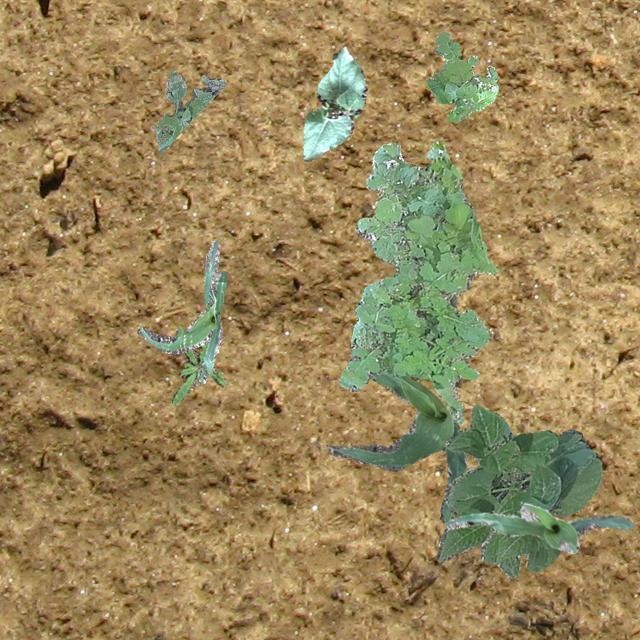crop: (436, 404, 600, 578), (326, 369, 466, 522), (137, 238, 226, 384), (444, 502, 632, 552), (302, 46, 366, 160)
weed: (338, 140, 498, 423), (424, 30, 496, 121), (150, 71, 226, 151), (170, 324, 227, 404), (408, 164, 420, 166)
